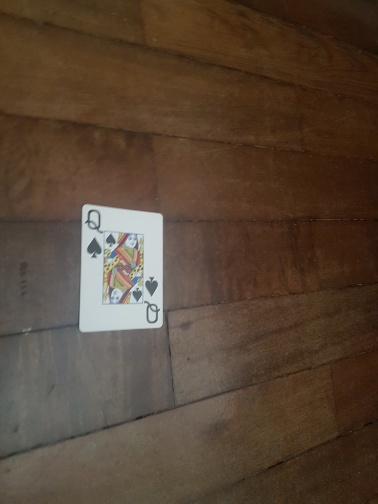queen: (79, 204, 163, 332)
